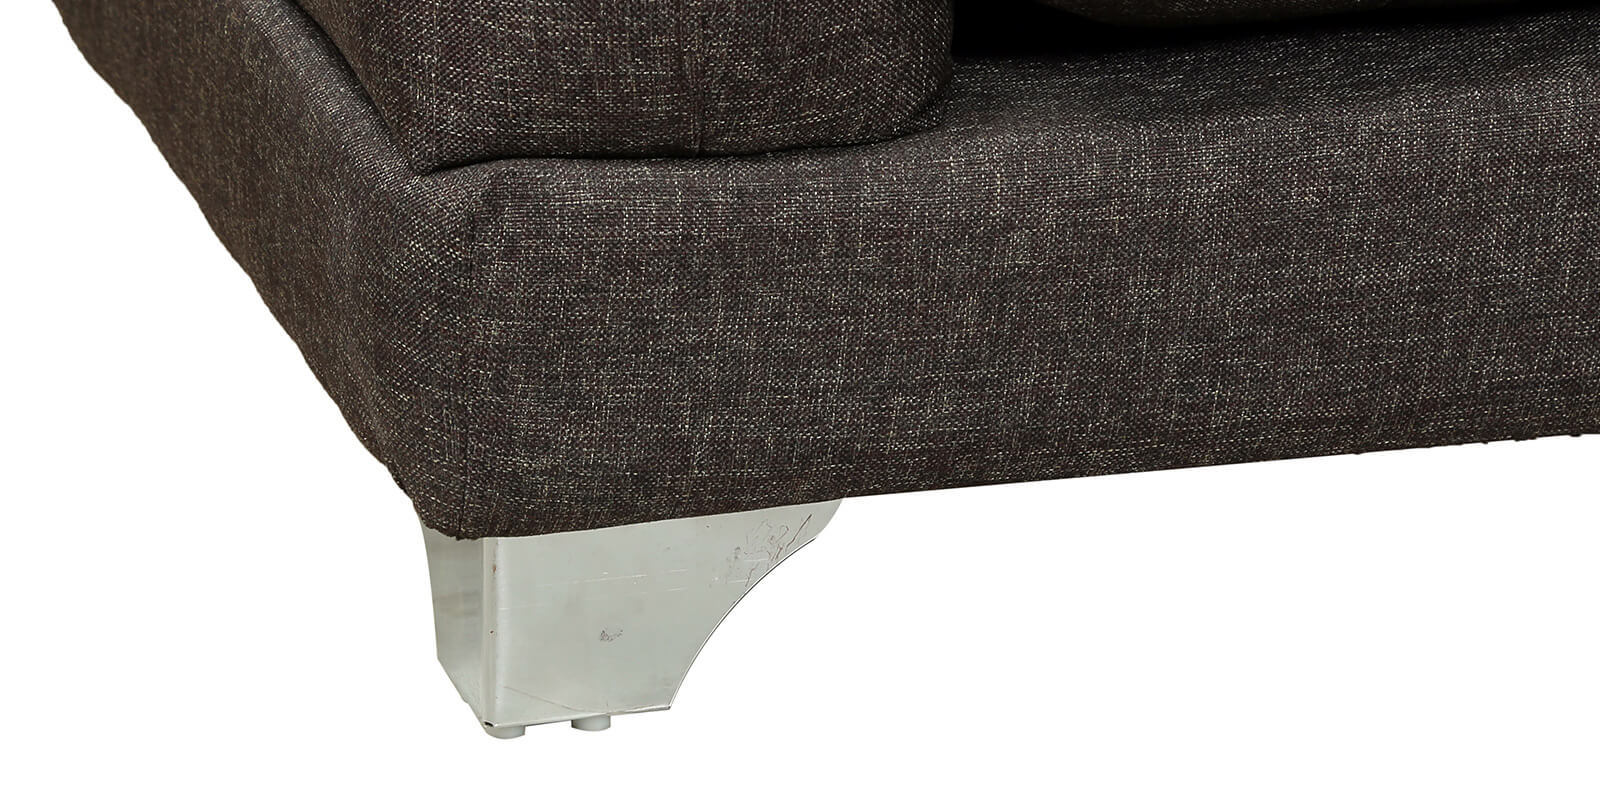Exclusive Three Seater Sofa in Dark Grey Colour by Parin: (41, 3, 1600, 778)
